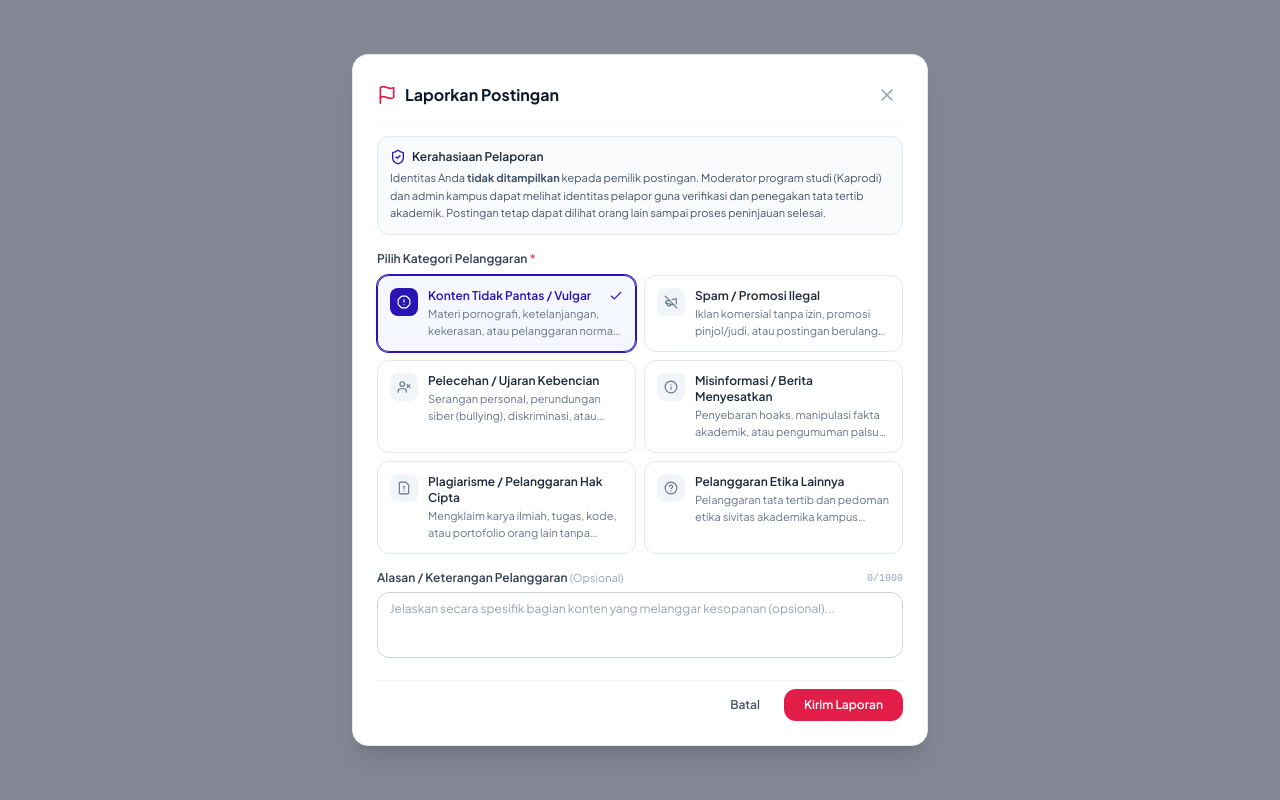
Scenario: ReportPostModal & TakedownPostModal Frontend Tests › handles 409 conflict and 429 rate limit errors gracefully
Step 1. Click the button "Kirim Laporan" → x=844, y=705, box [784,689,903,721]
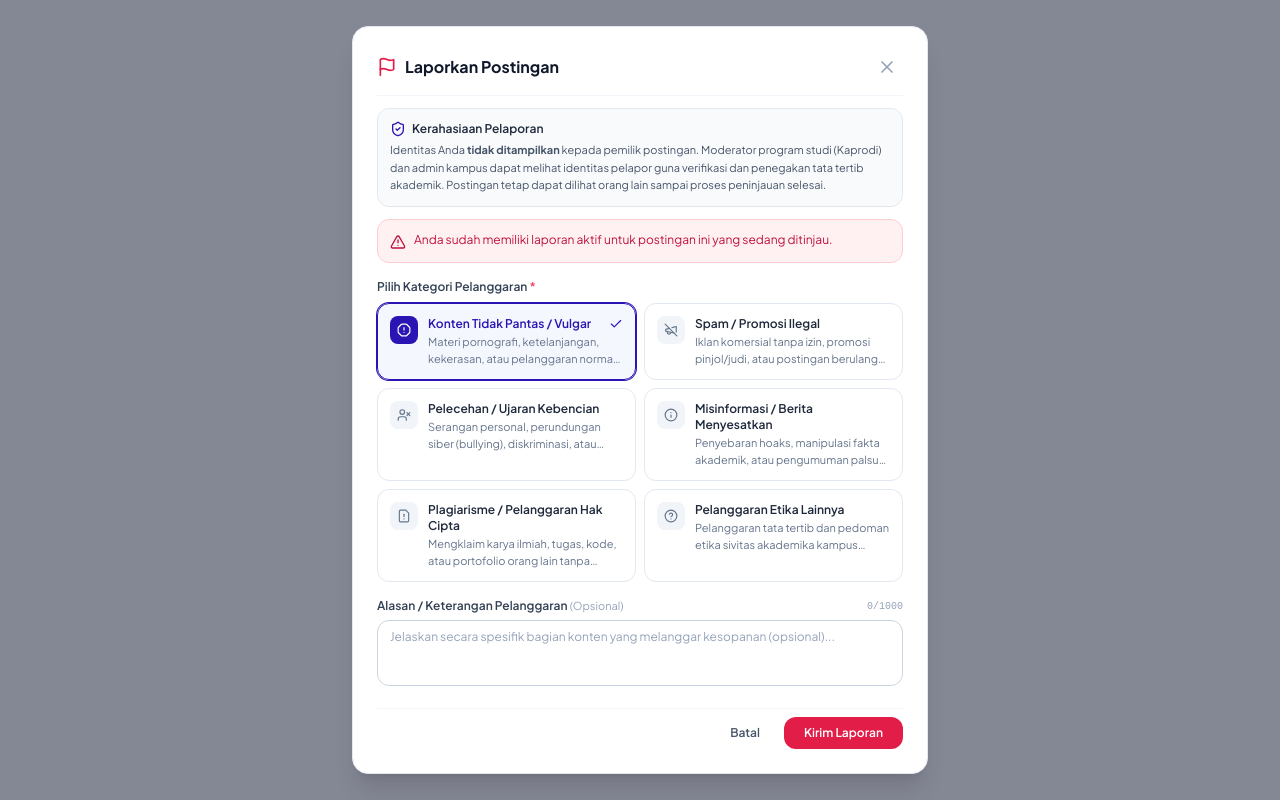
Expected: the text "Anda sudah memiliki laporan aktif untuk postingan ini yang sedang ditinjau" is shown, [414,232,832,247]
